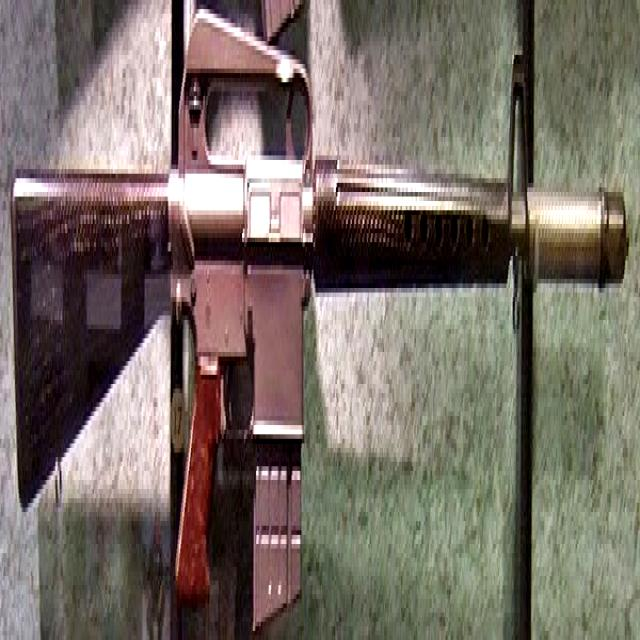m16: (130, 17, 636, 620)
